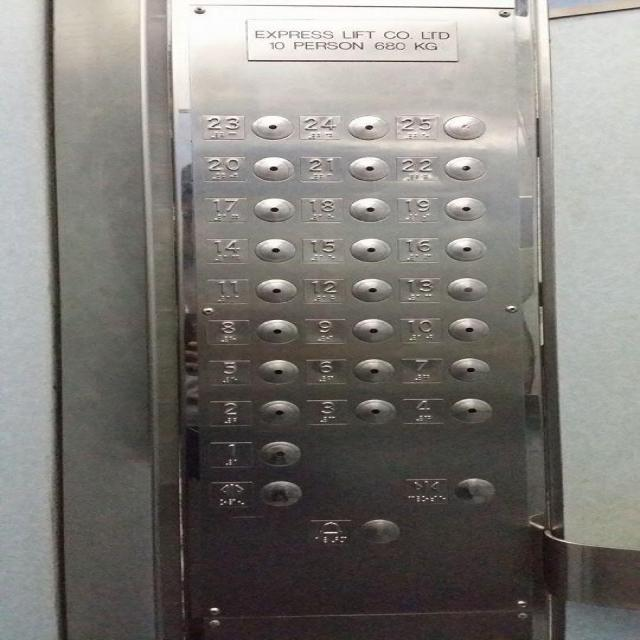1: (205, 440, 254, 467)
10: (395, 316, 443, 343)
11: (202, 276, 250, 303)
12: (298, 276, 348, 304)
13: (394, 276, 444, 304)
14: (200, 235, 249, 263)
15: (299, 235, 345, 263)
16: (395, 235, 441, 263)
17: (199, 195, 248, 222)
18: (298, 195, 346, 222)
19: (394, 195, 442, 222)
2: (205, 398, 254, 425)
20: (198, 155, 246, 182)
21: (296, 155, 345, 182)
22: (392, 154, 440, 182)
23: (196, 113, 246, 141)
24: (295, 112, 343, 140)
25: (392, 112, 440, 140)
3: (301, 397, 350, 425)
4: (397, 396, 446, 423)
5: (204, 358, 252, 385)
6: (301, 357, 350, 385)
7: (397, 355, 446, 383)
8: (204, 317, 252, 345)
9: (300, 317, 348, 344)
alarm: (305, 517, 353, 544)
close: (401, 477, 449, 504)
empty: (250, 235, 299, 264), (347, 275, 396, 304), (251, 276, 300, 305), (348, 316, 397, 345), (251, 357, 300, 386), (252, 398, 301, 427), (449, 476, 498, 505), (440, 153, 488, 182), (344, 154, 392, 183), (441, 194, 489, 223), (350, 356, 398, 385), (446, 396, 494, 425), (346, 235, 395, 263), (442, 275, 491, 303), (251, 317, 300, 345), (443, 315, 492, 343), (444, 355, 493, 383), (348, 397, 397, 425), (353, 517, 402, 545), (247, 113, 295, 141), (344, 113, 392, 141), (439, 113, 487, 141), (248, 155, 296, 183), (249, 195, 297, 223), (345, 195, 393, 223), (441, 235, 489, 263), (255, 439, 303, 467), (254, 479, 302, 507)
open: (205, 479, 254, 507)
